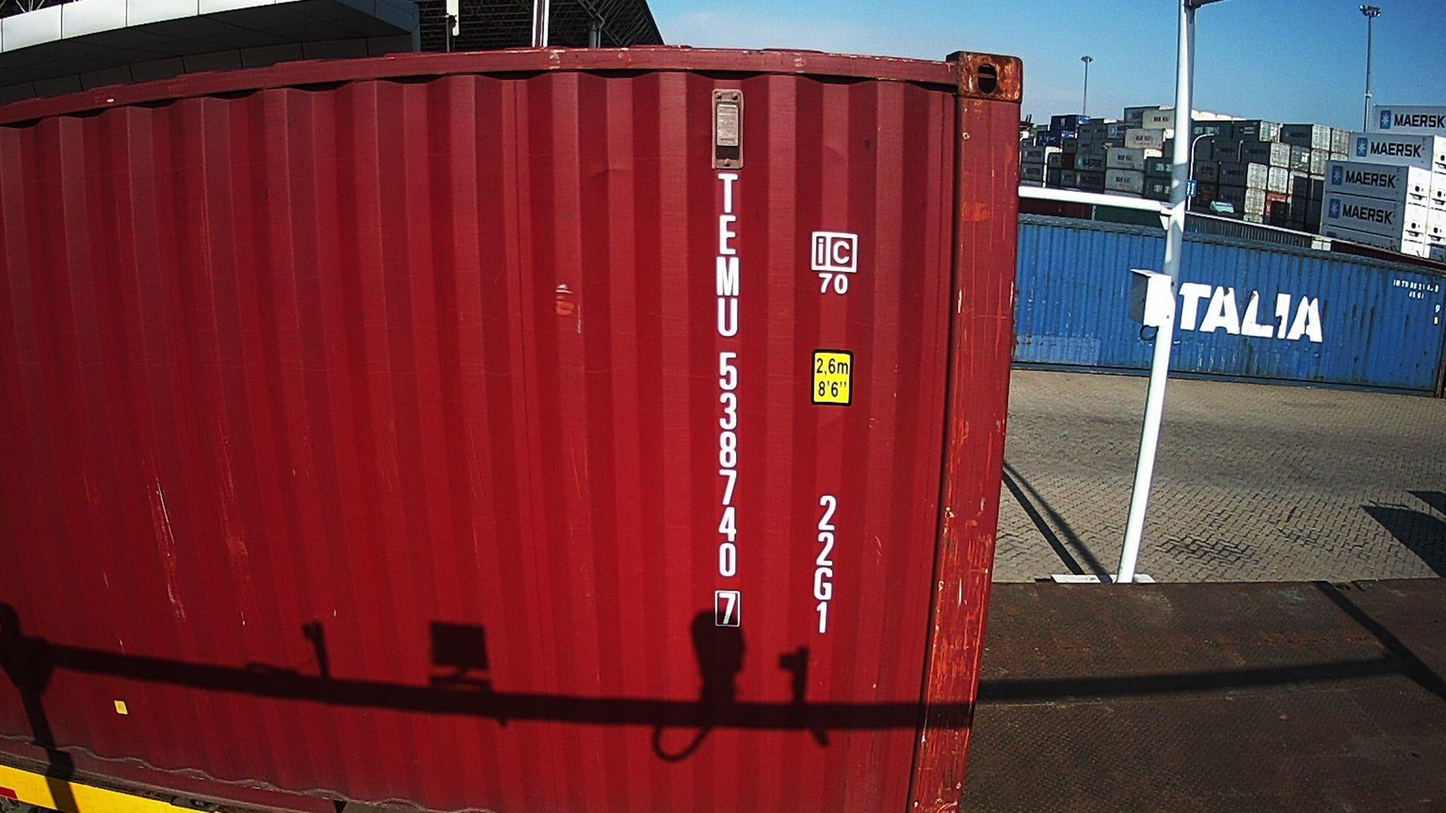container-numbers: (710, 167, 750, 637), (804, 489, 842, 638)
